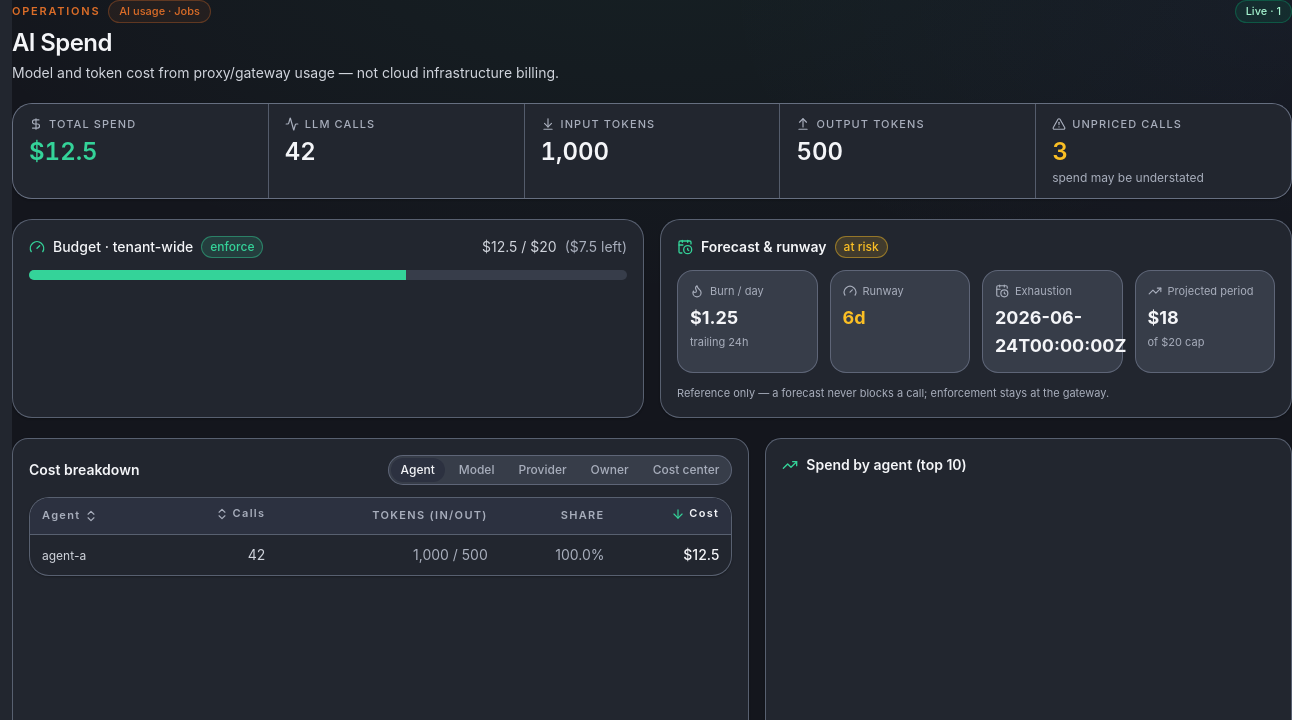
Test case: CostPage › renders spend totals, an enforced budget bar, and anomalies
expect the heading "Spend by agent (top 10)" is shown: met, box [806,455,967,475]
expect the text "enforce" is shown: met, box [201,236,263,258]
// Cost-center chargeback is now a dimension of the unified breakdown table.
Click the button "Cost center": (686,470) [643,458,729,482]
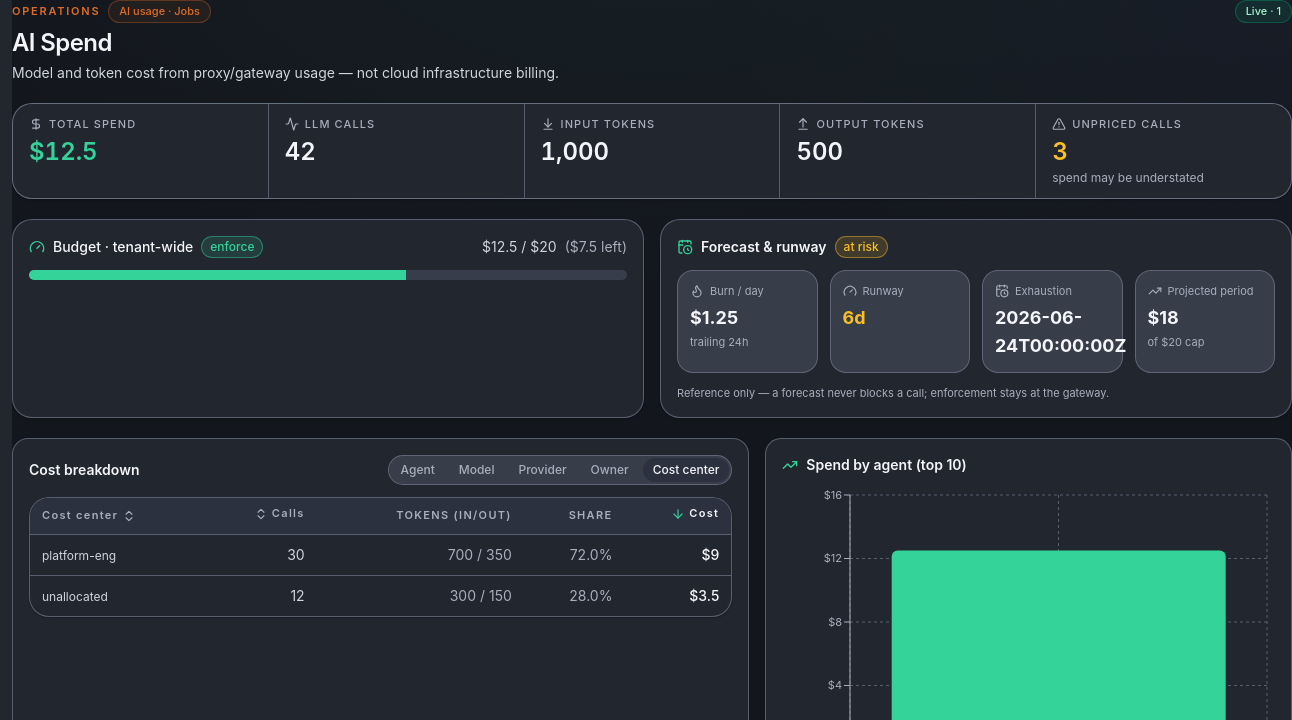
expect the text "platform-eng" is shown: met, box [42,548,116,562]
